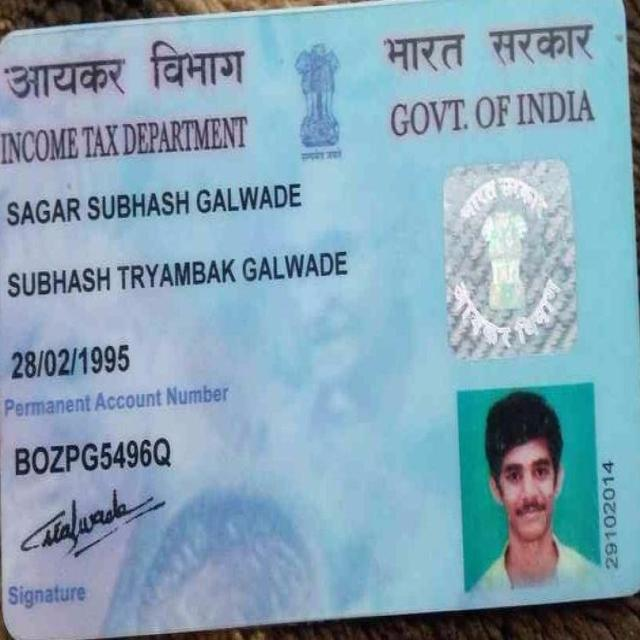pan_card: (2, 5, 640, 611)
